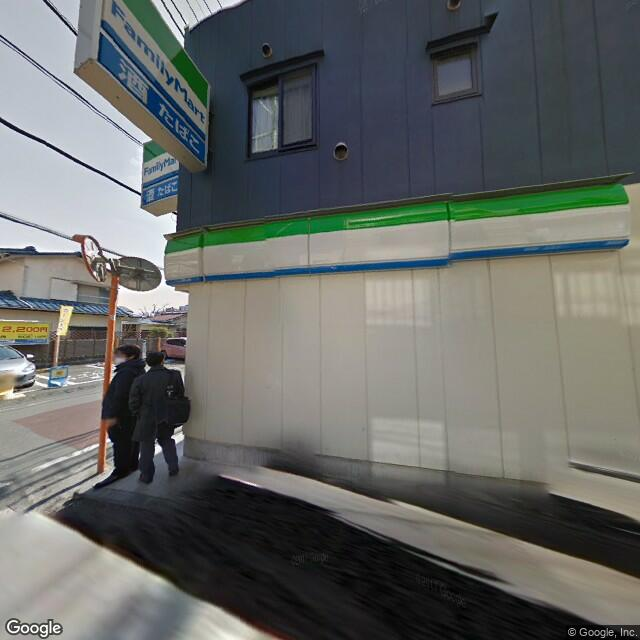family_mart: (164, 174, 632, 286), (97, 1, 208, 148), (142, 140, 180, 188)
